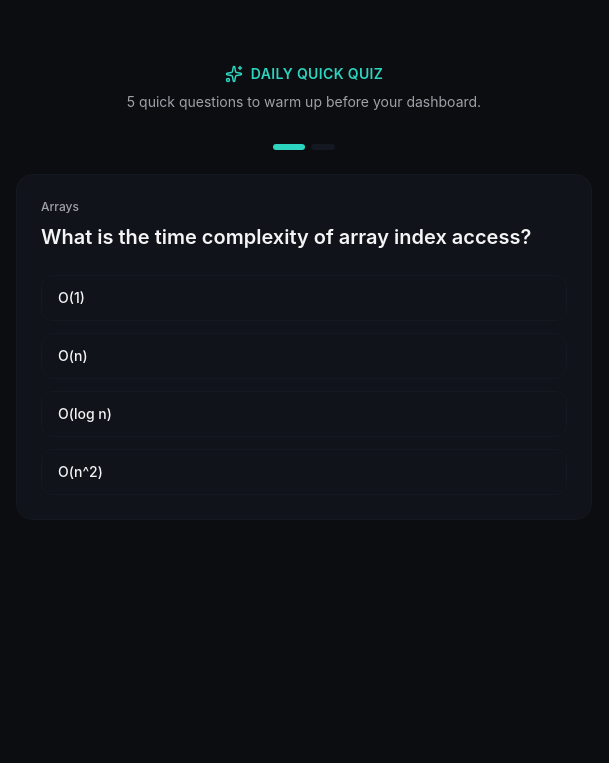
Test: DailyQuickQuiz › shows a per-question review with the selected option and the correct option for wrong answers
Click the button "O(n)" at (73, 356), box [41,333,567,379]
Wait 1000 ms
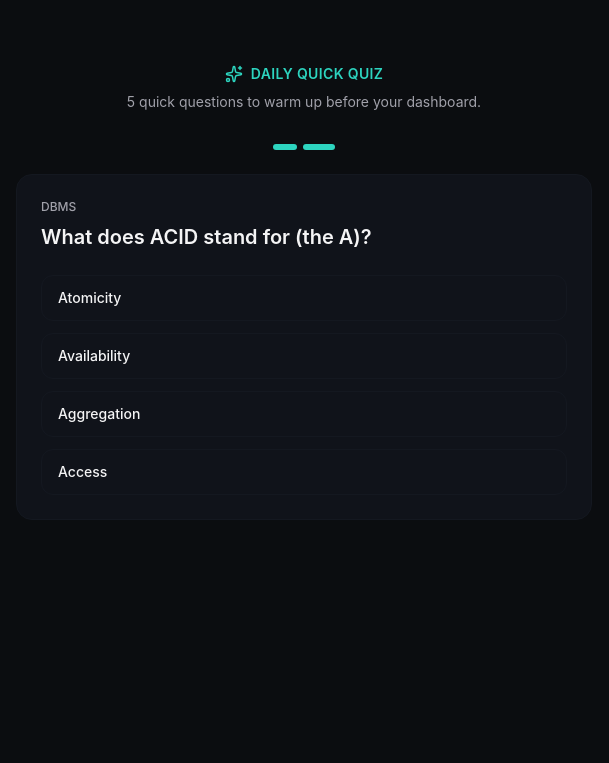
Click the button "Availability" at (94, 356), box [41,333,567,379]
Wait 1000 ms
(page scrolled)
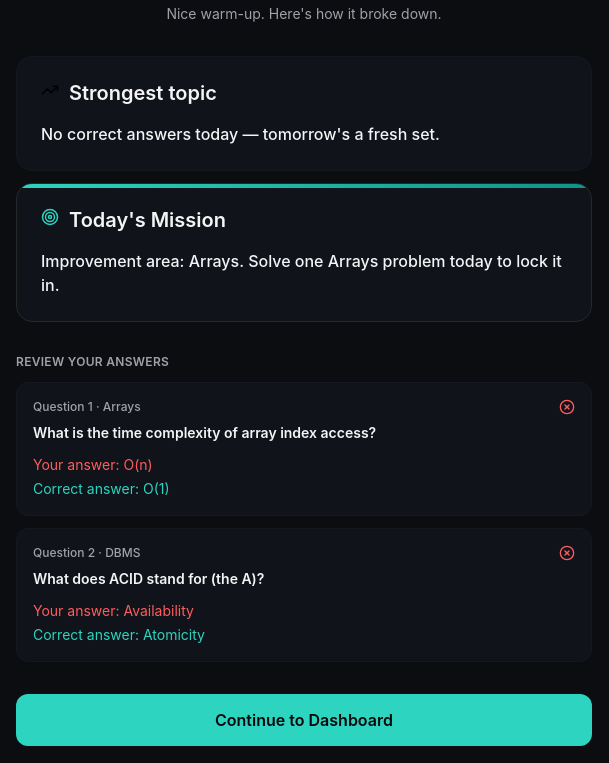
Expected: the heading "Review your answers" is shown, [16,354,169,369]
Expected: the text "Question 1 · Arrays" is shown, [33,399,141,415]
Expected: the text "Your answer: O(n)" is shown, [33,456,153,473]
